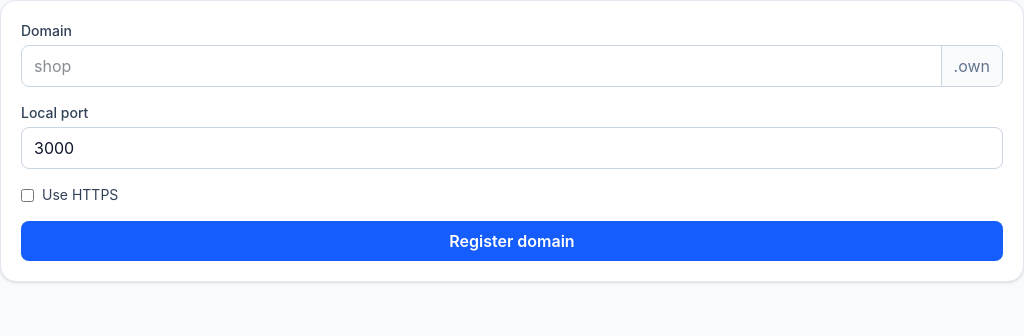
Test: DomainForm › shows validation without submitting invalid input
The image size is (1024, 336).
Step 1. Type "*" into the field labelled "Domain" → (481, 66), box left=22, top=46, right=940, bottom=86
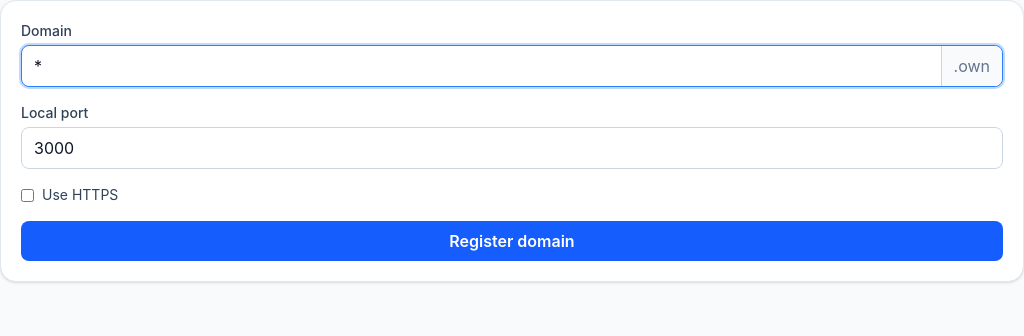
Step 2. Click the button "Register domain" → (512, 241), box left=21, top=221, right=1003, bottom=261
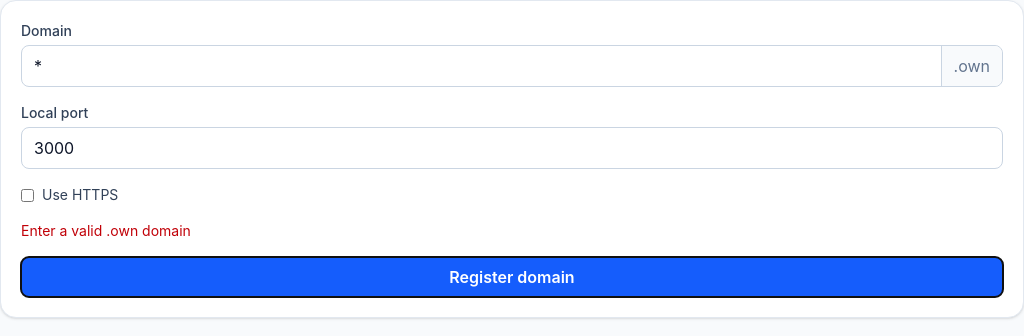
Check: the message reads "Enter a valid .own domain", box left=21, top=222, right=191, bottom=239
